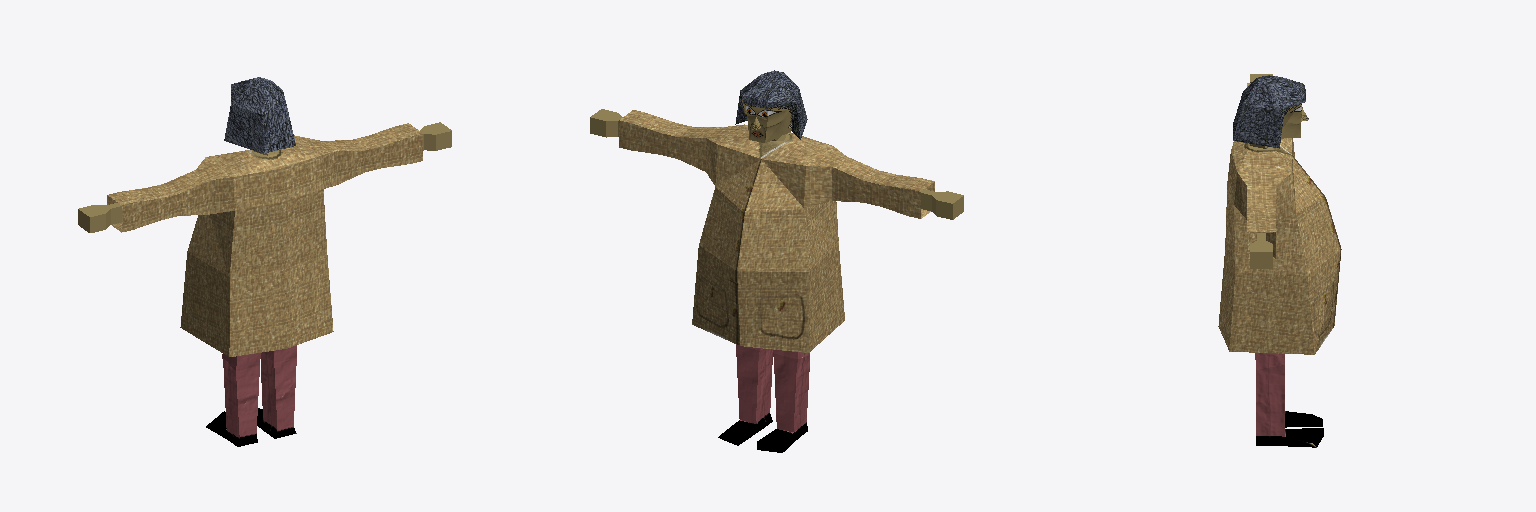
The picture shows the model from 3 angles: view 1: azimuth 30°, elevation 25°; view 2: azimuth 150°, elevation 25°; view 3: azimuth 270°, elevation 25°; orthographic projection.
Visible parts, largest first — view 1: merchant; view 2: merchant; view 3: merchant.
Boxes of the visible parts, box(x1,y1,x2,y2) form: merchant: box(78, 77, 451, 446); merchant: box(590, 70, 963, 452); merchant: box(1218, 74, 1341, 447).
Bounding box in the file's own units: 6.39 × 5.93 × 1.88.
Materials: 1 (1 with a texture image).